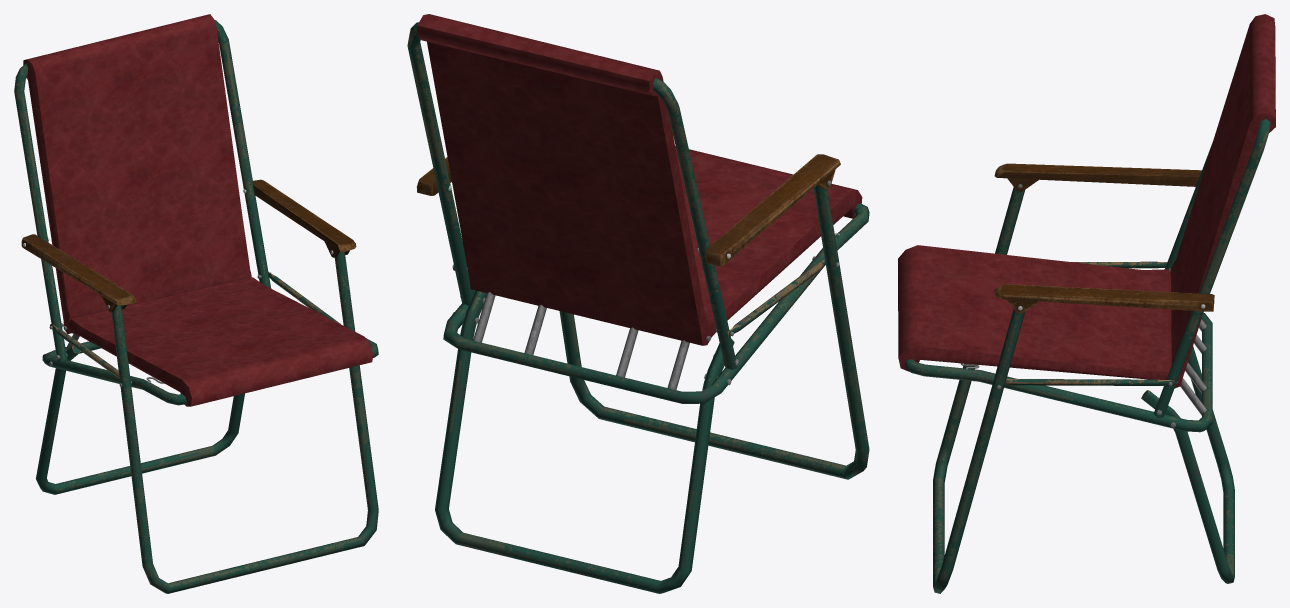
File: kuersi.glb
The picture shows the model from 3 angles, left to right: view 1: azimuth 30°, elevation 25°; view 2: azimuth 150°, elevation 25°; view 3: azimuth 270°, elevation 25°; orthographic projection. The views are drawn at different scales.
Visible parts, largest first — view 1: chair; view 2: chair; view 3: chair.
Boxes of the visible parts, left/top/right/bottom form: chair: left=14, top=14, right=378, bottom=593; chair: left=407, top=14, right=869, bottom=593; chair: left=898, top=14, right=1275, bottom=593.
Size of the model in its own units: 0.369 by 0.6103 by 0.4377.
1 material, 1 textured.
